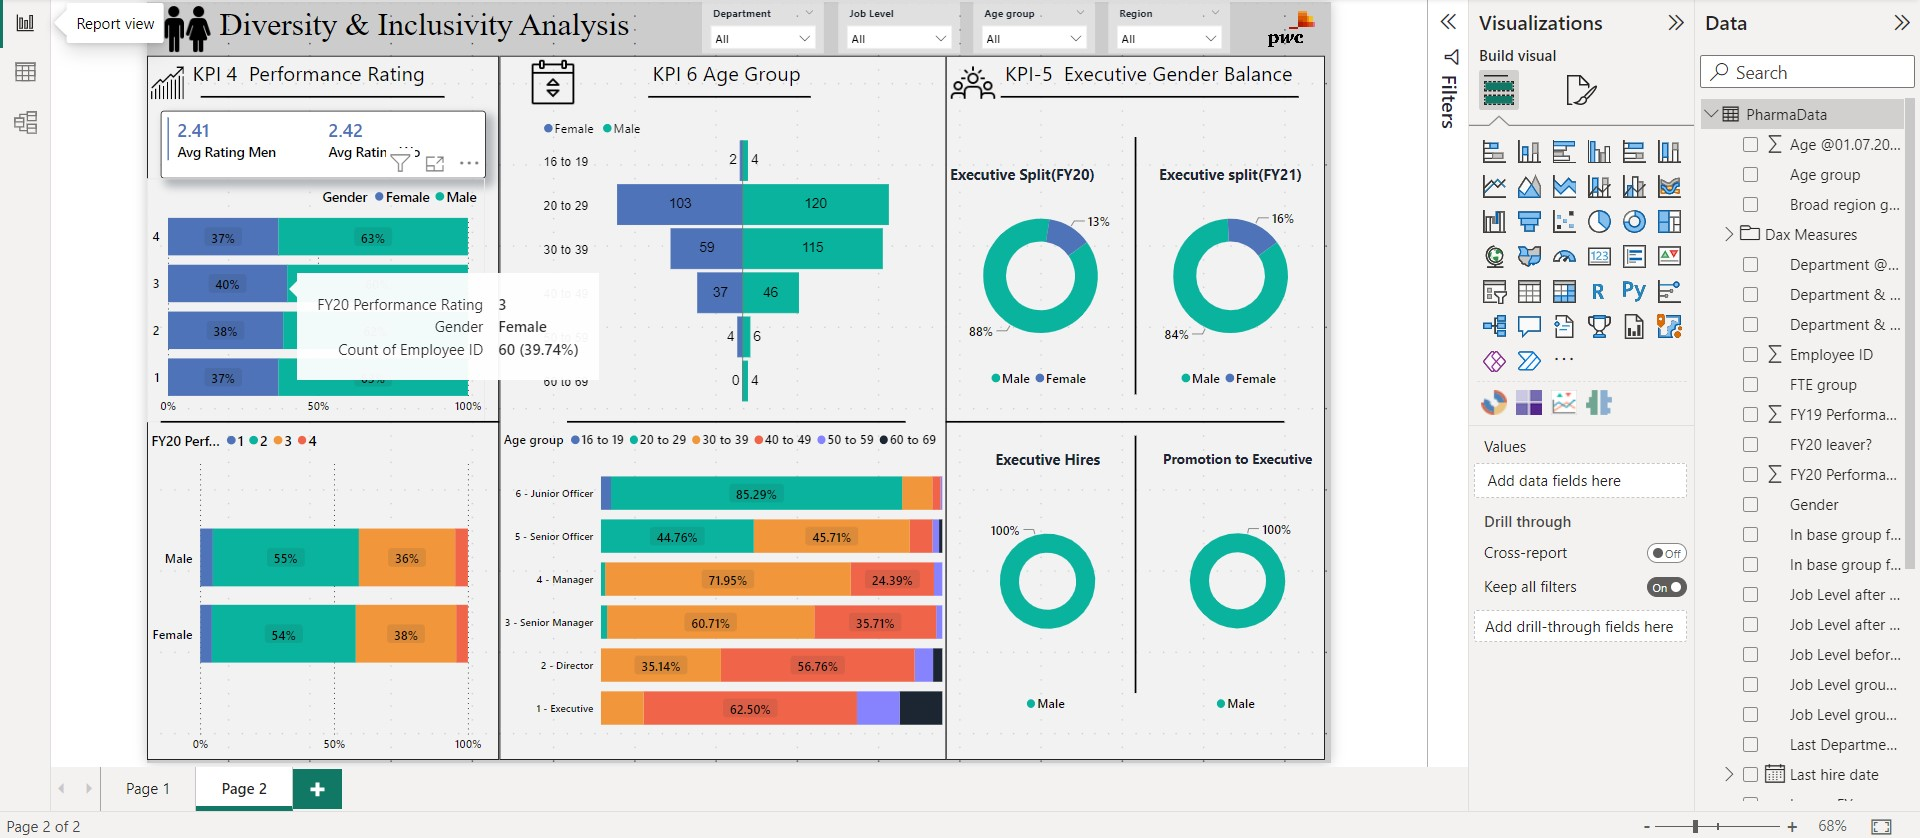

The dashboard page shown, as its layout file describes it:
{"tool":"powerbi","page":{"name":"Page 2","canvas":[1400,900],"ordinal":1},"visuals":[{"type":"textbox","box":[48,0,544,64],"z":0},{"type":"image","box":[0,0,96,64],"z":1000},{"type":"shape","box":[944,64,448,832],"z":2000},{"type":"shape","box":[416,64,528,832],"z":3000},{"type":"shape","box":[0,64,416,832],"z":4000},{"type":"multiRowCard","fields":{"Values":["PharmaData.Avg Rating Men","PharmaData.Avg Rating Women"]},"box":[16,128,384,80],"z":5000},{"type":"hundredPercentStackedBarChart","fields":{"Category":["PharmaData.Gender"],"Y":["CountNonNull(PharmaData.Employee ID)"],"Series":["PharmaData.FY20 Performance Rating"]},"box":[0,496,400,400],"z":6000},{"type":"hundredPercentStackedBarChart","fields":{"Series":["PharmaData.Gender"],"Category":["PharmaData.FY20 Performance Rating"],"Y":["CountNonNull(PharmaData.Employee ID)"]},"box":[0,208,400,288],"z":7000},{"type":"donutChart","title":"Executive split(FY21)","fields":{"Category":["PharmaData.Gender"],"Y":["Divide(CountNonNull(PharmaData.Employee ID), ScopedEval(CountNonNull(PharmaData.Employee ID), []))"]},"box":[1168,192,224,272],"z":8000},{"type":"donutChart","title":"Executive Hires ","fields":{"Category":["PharmaData.Gender"],"Y":["CountNonNull(PharmaData.Job Level before FY20 promotions)"]},"box":[960,528,208,320],"z":9000},{"type":"donutChart","title":"Executive Split(FY20)","fields":{"Y":["CountNonNull(PharmaData.Employee ID)"],"Category":["PharmaData.Gender"],"Series":["PharmaData.Job Level after FY20 promotions"]},"box":[944,192,224,272],"z":10000},{"type":"TornadoChart1452517688218","fields":{"Category":["PharmaData.Age group"],"Values":["CountNonNull(PharmaData.Total Employees)"],"Series":["PharmaData.Gender"]},"box":[464,128,432,368],"z":11000},{"type":"hundredPercentStackedBarChart","fields":{"Category":["PharmaData.Job Level after FY20 promotions"],"Series":["PharmaData.Age group"],"Y":["Divide(CountNonNull(PharmaData.Employee ID), ScopedEval(CountNonNull(PharmaData.Employee ID), []))"]},"box":[416,496,528,384],"z":12000},{"type":"textbox","box":[48,64,416,48],"z":13000},{"type":"textbox","box":[1008,64,384,48],"z":14000},{"type":"textbox","box":[592,64,304,48],"z":15000},{"type":"image","box":[0,64,48,64],"z":16000},{"type":"image","box":[944,64,64,64],"z":17000},{"type":"image","box":[448,64,64,64],"z":18000},{"type":"donutChart","title":"Promotion to Executive ","fields":{"Category":["PharmaData.Gender"],"Y":["CountNonNull(PharmaData.Job Level before FY20 promotions)"],"Series":["PharmaData.Promotion in FY20?"]},"box":[1184,528,208,320],"z":19000},{"type":"shape","box":[1008,96,352,32],"z":20000},{"type":"shape","box":[16,480,400,32],"z":21000},{"type":"shape","box":[64,96,288,32],"z":22000},{"type":"shape","box":[592,96,192,32],"z":23000},{"type":"shape","box":[1152,512,32,304],"z":24000},{"type":"shape","box":[496,480,400,32],"z":25000},{"type":"shape","box":[944,480,400,32],"z":26000},{"type":"shape","box":[1152,160,32,304],"z":27000},{"type":"image","box":[1304,0,96,64],"z":28000},{"type":"slicer","fields":{"Values":["PharmaData.Department @01.07.2020"]},"box":[656,0,144,61],"z":29000},{"type":"slicer","fields":{"Values":["PharmaData.Age group"]},"box":[976,0,144,61],"z":30000},{"type":"slicer","fields":{"Values":["PharmaData.Region group: nationality 1"]},"box":[1136,0,144,61],"z":31000},{"type":"slicer","fields":{"Values":["PharmaData.Job Level after FY20 promotions"]},"box":[816,0,144,61],"z":32000}]}

Visuals, with their boxes on the page's 1400x900 design canvas (x1, y1, x2, y2). These are canvas units, not pixel positions in the 1920x838 screenshot, which may show the page scaled, cropped or inside an application window:
textbox: 48:0:592:64
image: 0:0:96:64
shape: 944:64:1392:896
shape: 416:64:944:896
shape: 0:64:416:896
multiRowCard - PharmaData.Avg Rating Men x PharmaData.Avg Rating Women: 16:128:400:208
hundredPercentStackedBarChart - PharmaData.Gender x CountNonNull(PharmaData.Employee ID): 0:496:400:896
hundredPercentStackedBarChart - PharmaData.Gender x PharmaData.FY20 Performance Rating: 0:208:400:496
"Executive split(FY21)" donutChart: 1168:192:1392:464
"Executive Hires " donutChart: 960:528:1168:848
"Executive Split(FY20)" donutChart: 944:192:1168:464
TornadoChart1452517688218 - PharmaData.Age group x CountNonNull(PharmaData.Total Employees): 464:128:896:496
hundredPercentStackedBarChart - PharmaData.Job Level after FY20 promotions x PharmaData.Age group: 416:496:944:880
textbox: 48:64:464:112
textbox: 1008:64:1392:112
textbox: 592:64:896:112
image: 0:64:48:128
image: 944:64:1008:128
image: 448:64:512:128
"Promotion to Executive " donutChart: 1184:528:1392:848
shape: 1008:96:1360:128
shape: 16:480:416:512
shape: 64:96:352:128
shape: 592:96:784:128
shape: 1152:512:1184:816
shape: 496:480:896:512
shape: 944:480:1344:512
shape: 1152:160:1184:464
image: 1304:0:1400:64
slicer - PharmaData.Department @01.07.2020: 656:0:800:61
slicer - PharmaData.Age group: 976:0:1120:61
slicer - PharmaData.Region group: nationality 1: 1136:0:1280:61
slicer - PharmaData.Job Level after FY20 promotions: 816:0:960:61
